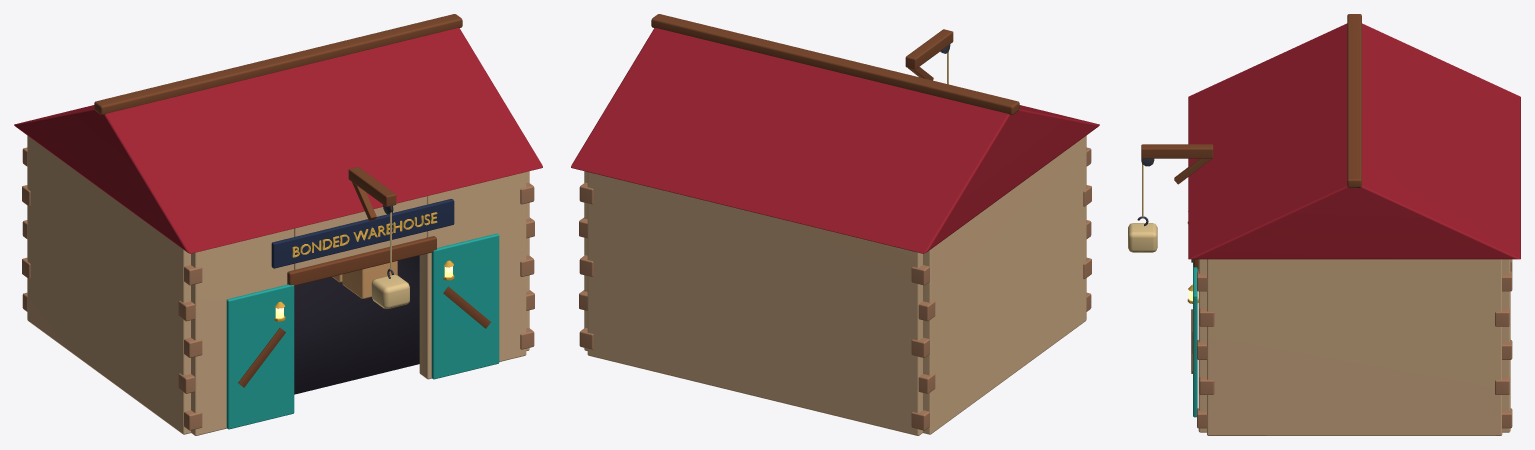
The model's file is cove_warehouse.glb.
3 views of the same model, side by side, from view 1: azimuth 30°, elevation 25°; view 2: azimuth 150°, elevation 25°; view 3: azimuth 270°, elevation 25° (orthographic). The views are drawn at different scales.
Parts seen in each view (by area): view 1: Warehouse; view 2: Warehouse; view 3: Warehouse.
Part boxes in pixels (x1,y1,x2,y2): Warehouse: (14, 14, 542, 435); Warehouse: (571, 14, 1099, 435); Warehouse: (1128, 14, 1520, 435).
Size of the model in its own units: 12 by 8.75 by 11.97.
